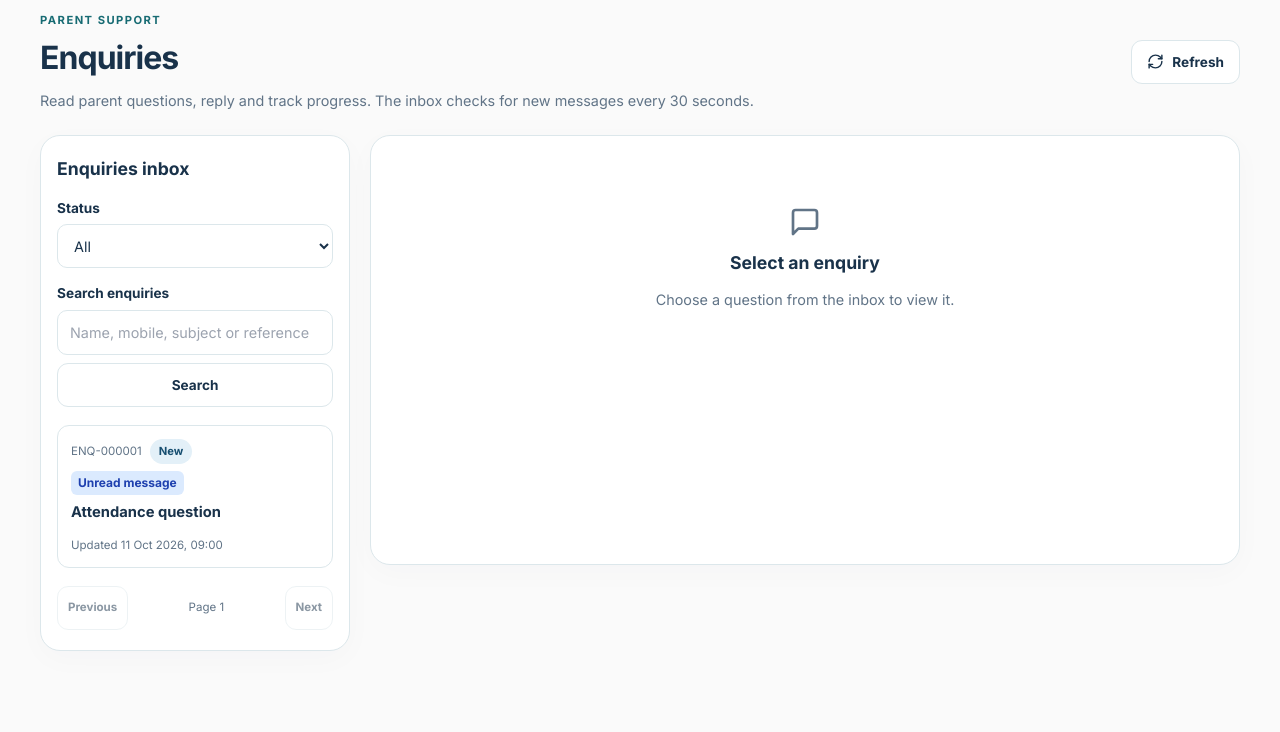
Test case: Admin marks only rendered messages as read and refreshes alerts after success
Step 1. Click the button with class "enquiry-row" → click(106, 451), box [57, 425, 333, 568]
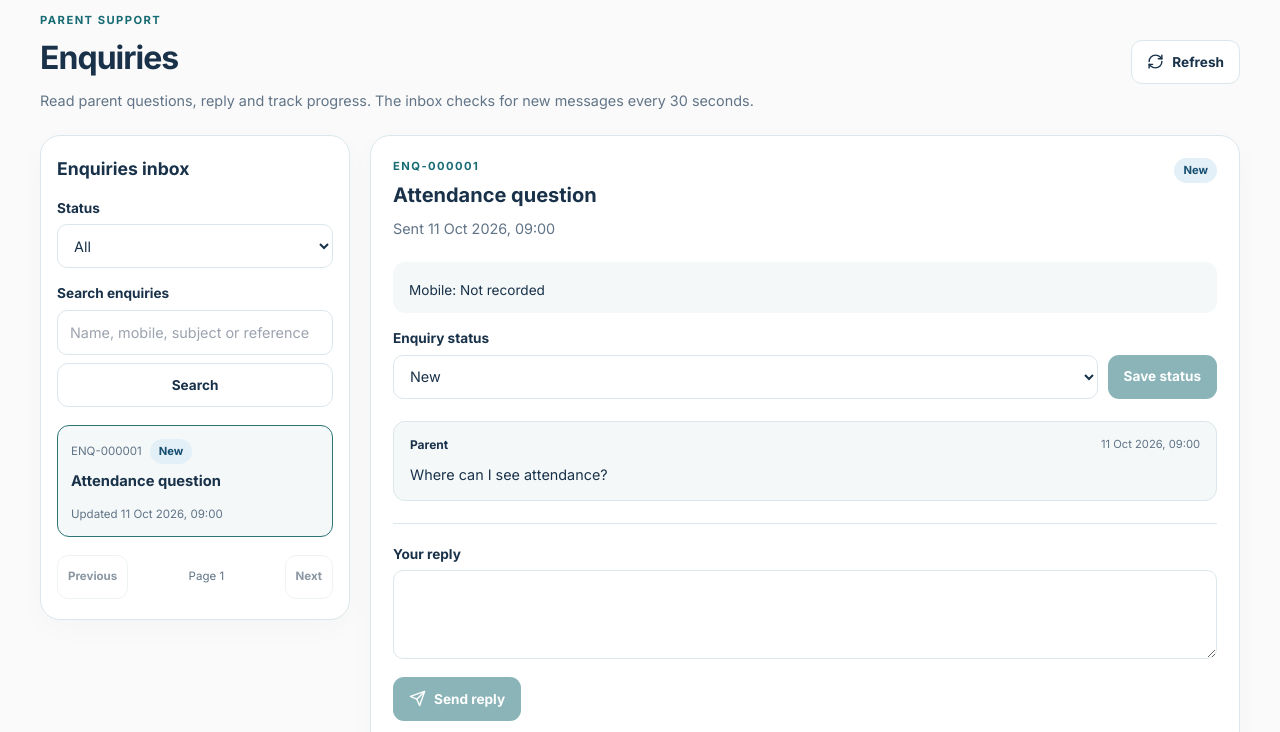
Check: the text "Where can I see attendance?" is shown, box [410, 466, 608, 483]
Check: the text "Unread message" is gone
